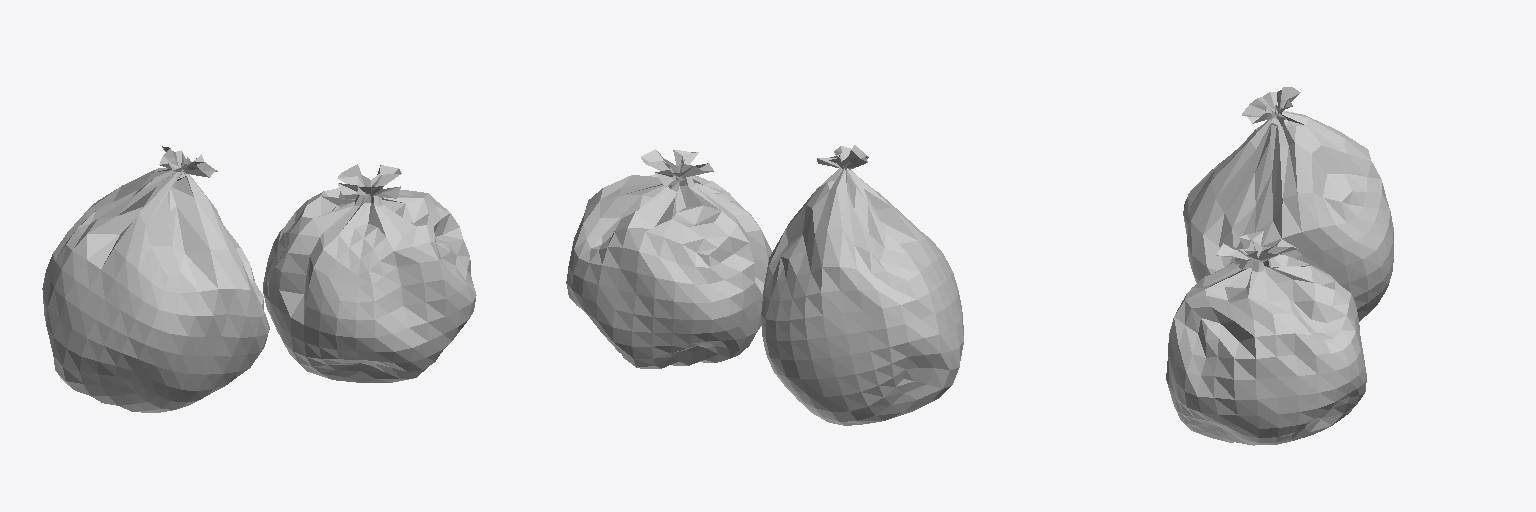
Rendered from uploads_files_4148706_trash+bag+obj.obj.
3 renders of one model, left to right at view 1: azimuth 30°, elevation 25°; view 2: azimuth 150°, elevation 25°; view 3: azimuth 270°, elevation 25°, orthographic.
Visible parts, largest first — view 1: trash bag, trash bag.001; view 2: trash bag, trash bag.001; view 3: trash bag.001, trash bag.
Boxes of the visible parts, x1=… form: trash bag: x1=42, y1=146, x2=269, y2=412; trash bag.001: x1=263, y1=164, x2=476, y2=382; trash bag: x1=761, y1=145, x2=963, y2=425; trash bag.001: x1=566, y1=149, x2=771, y2=368; trash bag.001: x1=1166, y1=231, x2=1366, y2=445; trash bag: x1=1183, y1=87, x2=1393, y2=321.
Size of the model in its own units: 2.17 by 1.37 by 1.11.